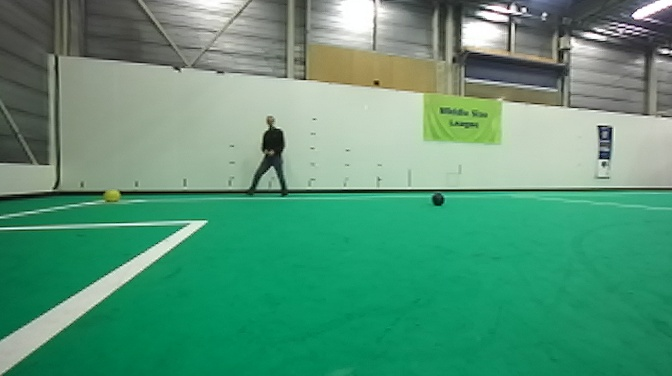ball: (102, 184, 123, 206), (429, 189, 447, 208)
human: (247, 113, 293, 198)
